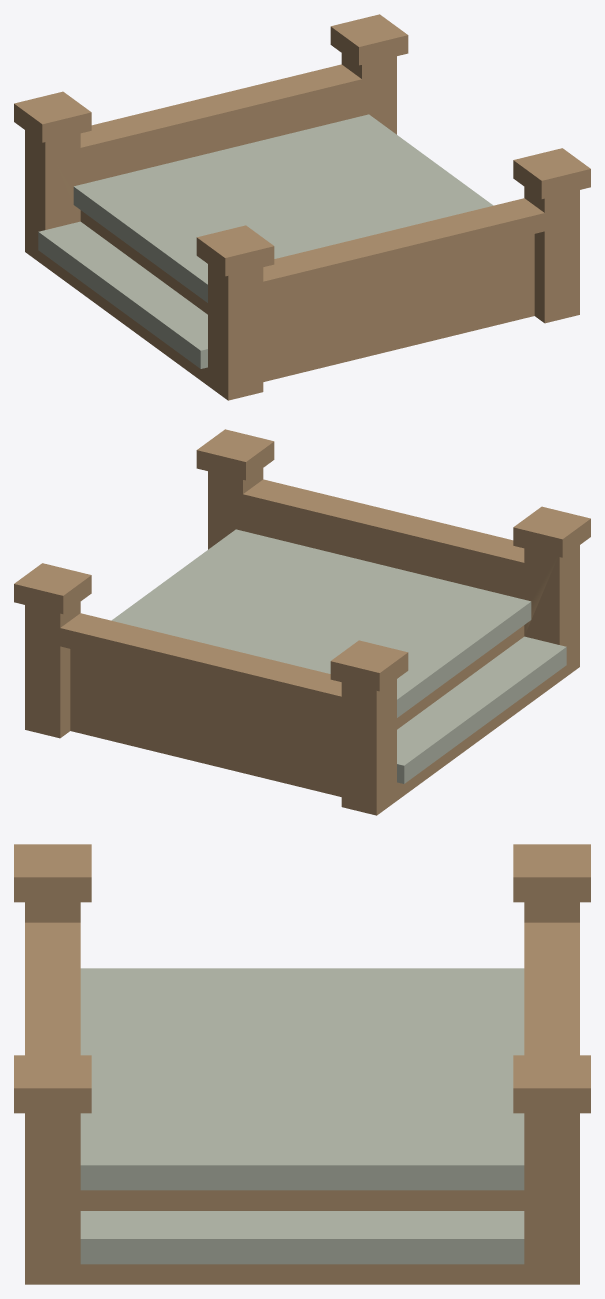
The model's file is kenney_nature-kit__bridge_wood.fbx.
3 renders of one model, top to bottom at view 1: azimuth 30°, elevation 25°; view 2: azimuth 150°, elevation 25°; view 3: azimuth 270°, elevation 25°, orthographic. The views are drawn at different scales.
Visible parts, largest first — view 1: kenney_nature-kit__bridge_wood__meadow_wood, kenney_nature-kit__bridge_wood__meadow_stone; view 2: kenney_nature-kit__bridge_wood__meadow_wood, kenney_nature-kit__bridge_wood__meadow_stone; view 3: kenney_nature-kit__bridge_wood__meadow_stone, kenney_nature-kit__bridge_wood__meadow_wood.
Boxes of the visible parts, <box> form: kenney_nature-kit__bridge_wood__meadow_wood: <box>14,14,590,400</box>; kenney_nature-kit__bridge_wood__meadow_stone: <box>38,114,493,368</box>; kenney_nature-kit__bridge_wood__meadow_wood: <box>14,429,590,815</box>; kenney_nature-kit__bridge_wood__meadow_stone: <box>111,529,566,783</box>; kenney_nature-kit__bridge_wood__meadow_stone: <box>80,968,524,1264</box>; kenney_nature-kit__bridge_wood__meadow_wood: <box>14,844,590,1284</box>.
Bounding box in the file's own units: 3.71 × 1.43 × 3.71.
